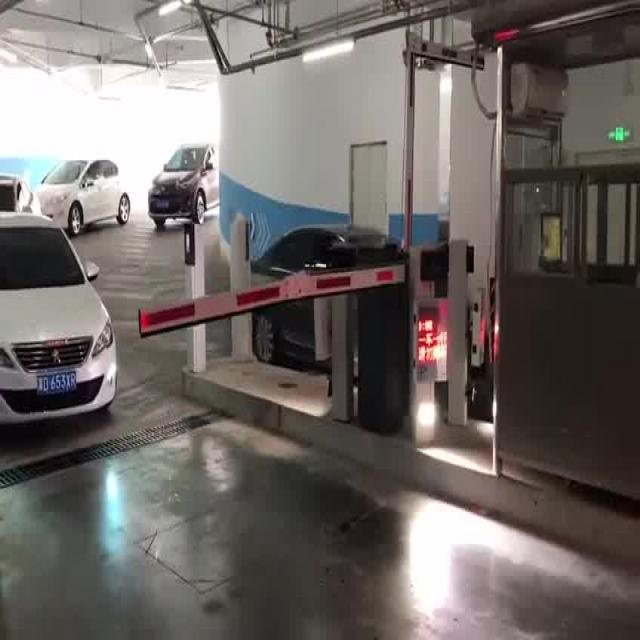CarIn: (231, 213, 450, 363), (1, 209, 121, 479), (26, 144, 143, 264)
GateClosed: (125, 238, 413, 374)
GateOpened: (380, 22, 517, 290)
